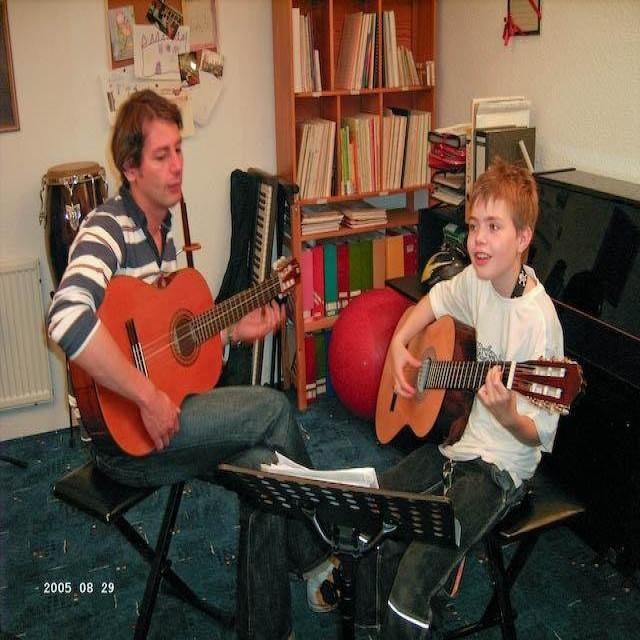guitar: (63, 258, 306, 462), (372, 306, 590, 457)
